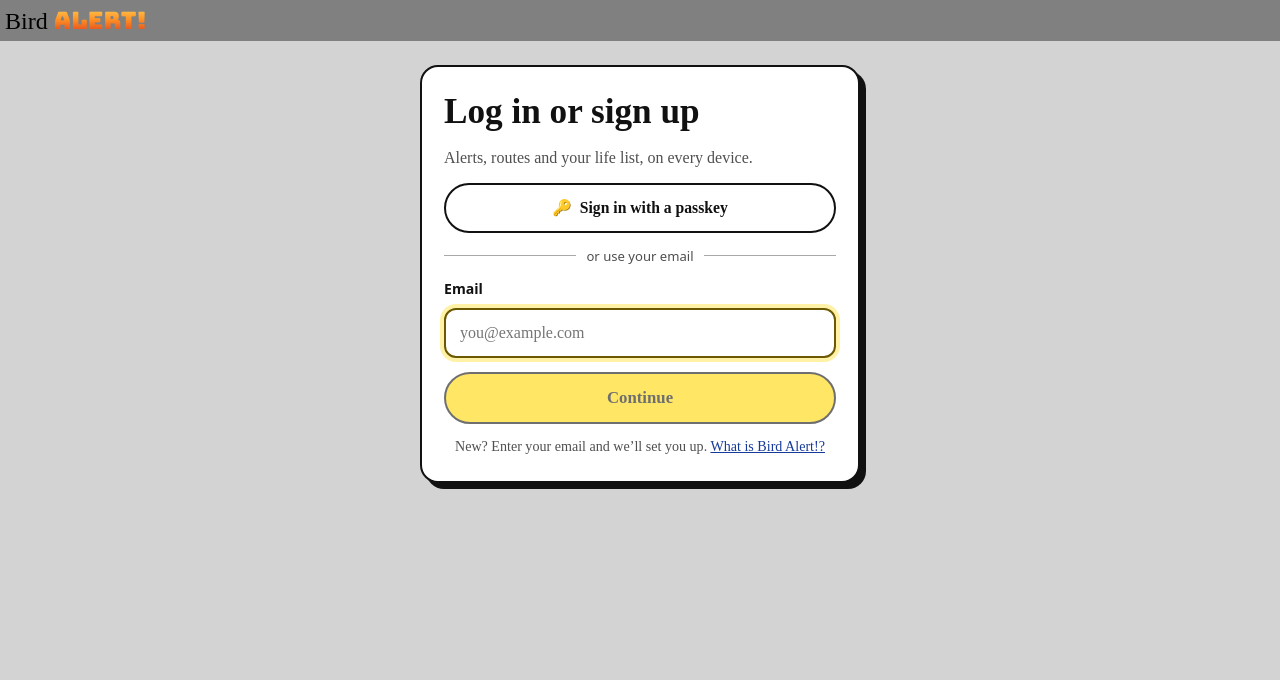
Life list › the watch list can hide birds already seen
Type "robin@example.com" into the field with class "email".
click(640, 333); type("robin@example.com")  # box [444,308,836,358]
Then press Enter
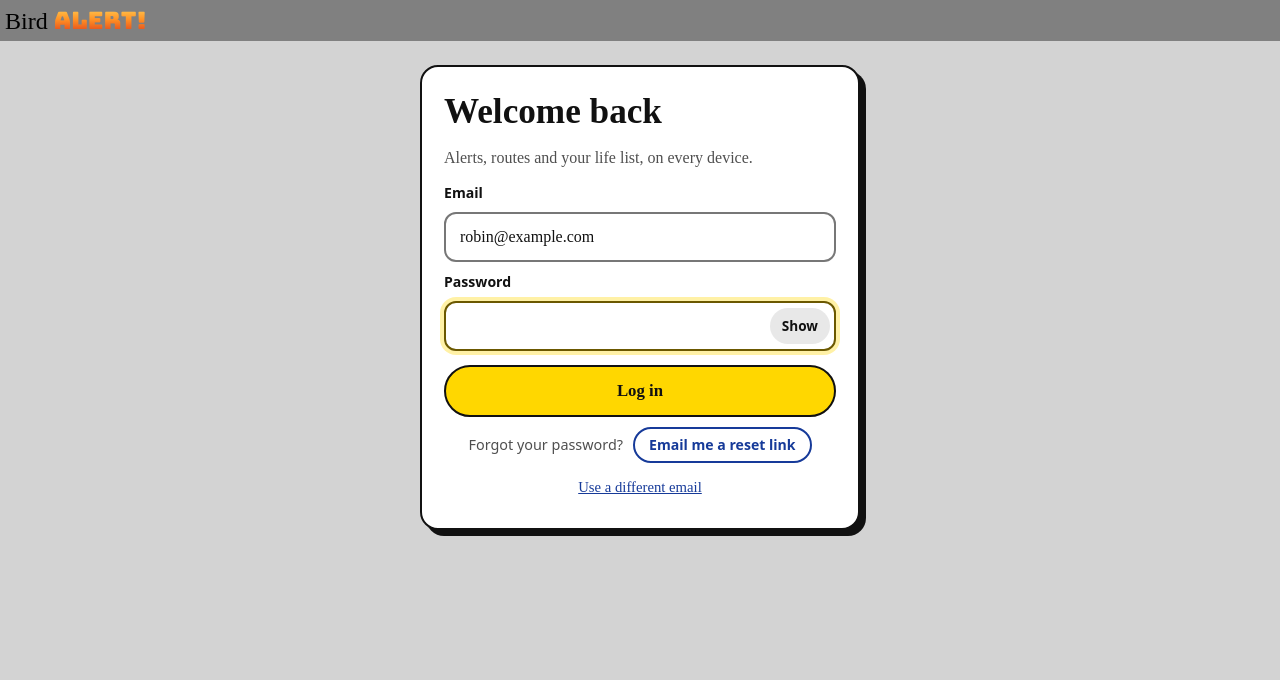
Result: the password field labelled "Password" is shown
Type "1234" into the password field labelled "Password".
click(640, 326); type("1234")  # box [444,301,836,351]
Then press Enter
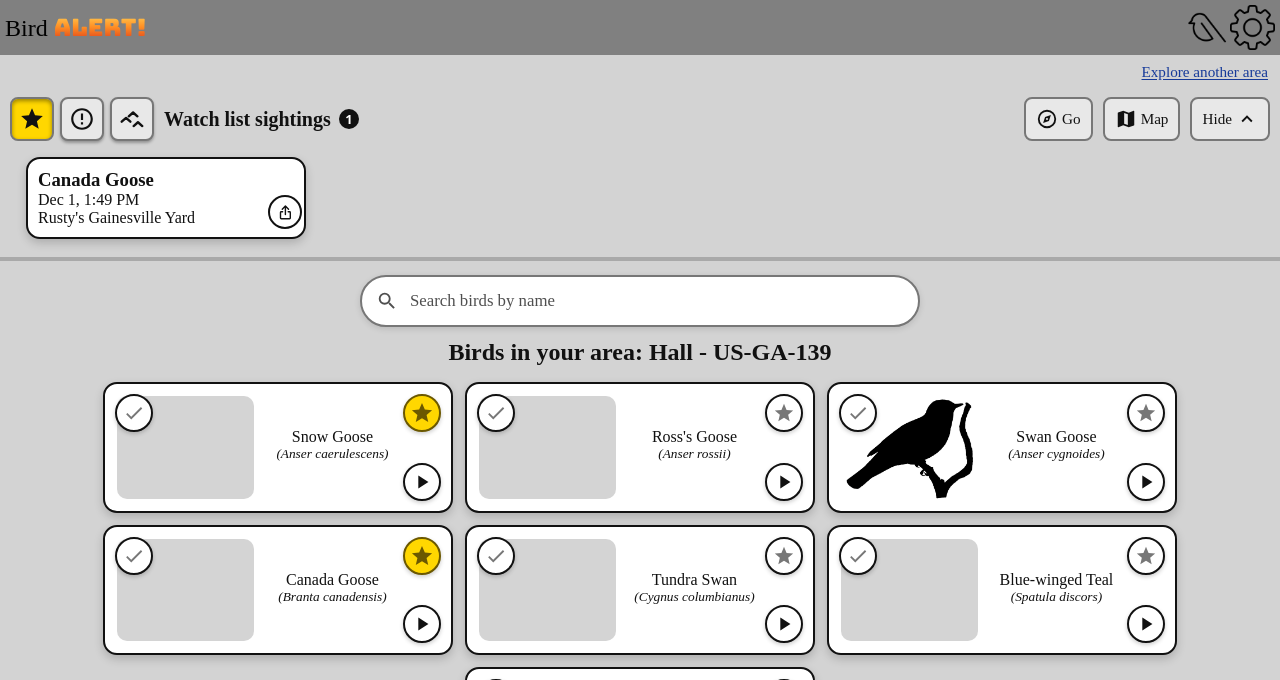
Result: the element showing "Snow Goose (Anser caerulescens)" is shown at [103,382,453,513]
Click the checkbox with id "seen-snogoo".
click(134, 413)  # box [115,394,153,432]
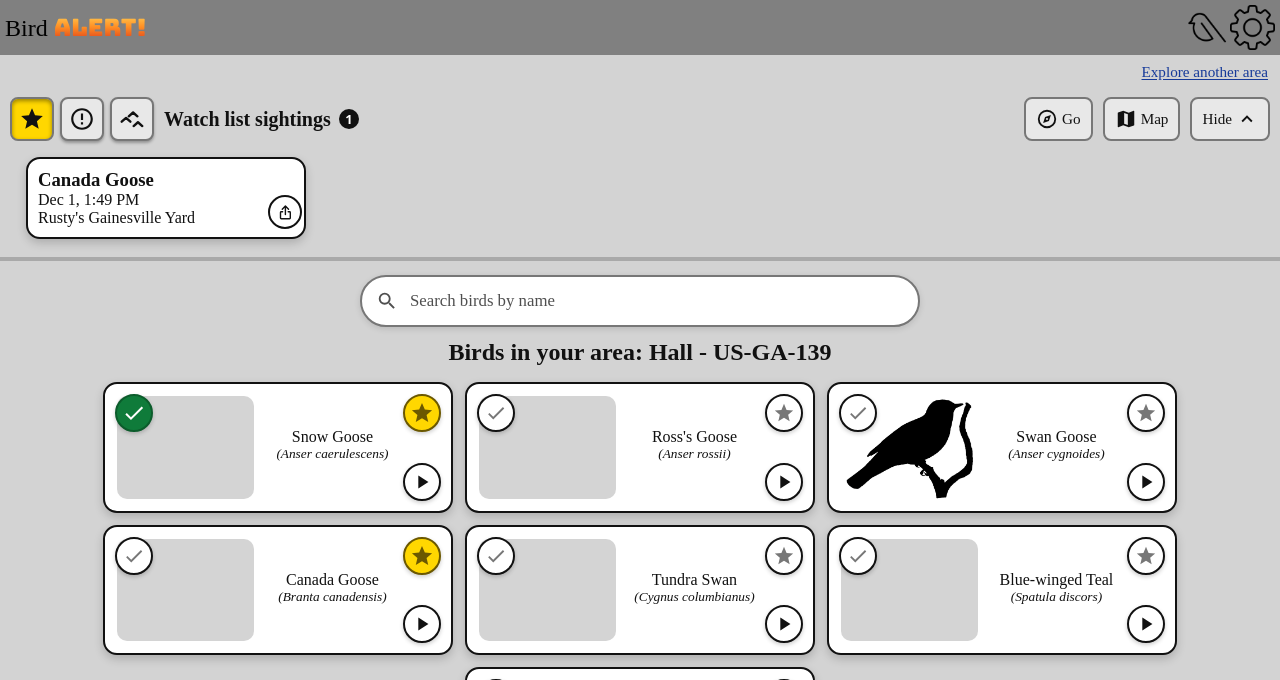
Open "http://localhost:3000/saved"
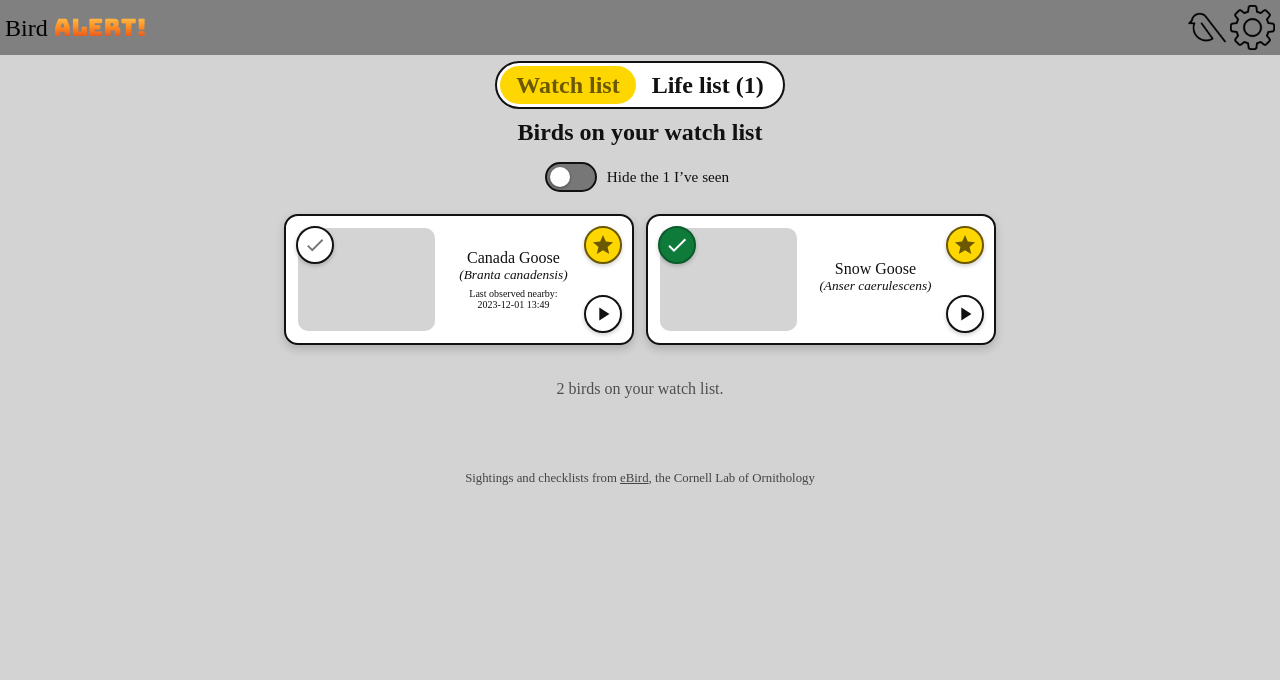
Click the checkbox labelled "Hide the 1 I’ve seen".
click(571, 177)  # box [545,162,597,192]
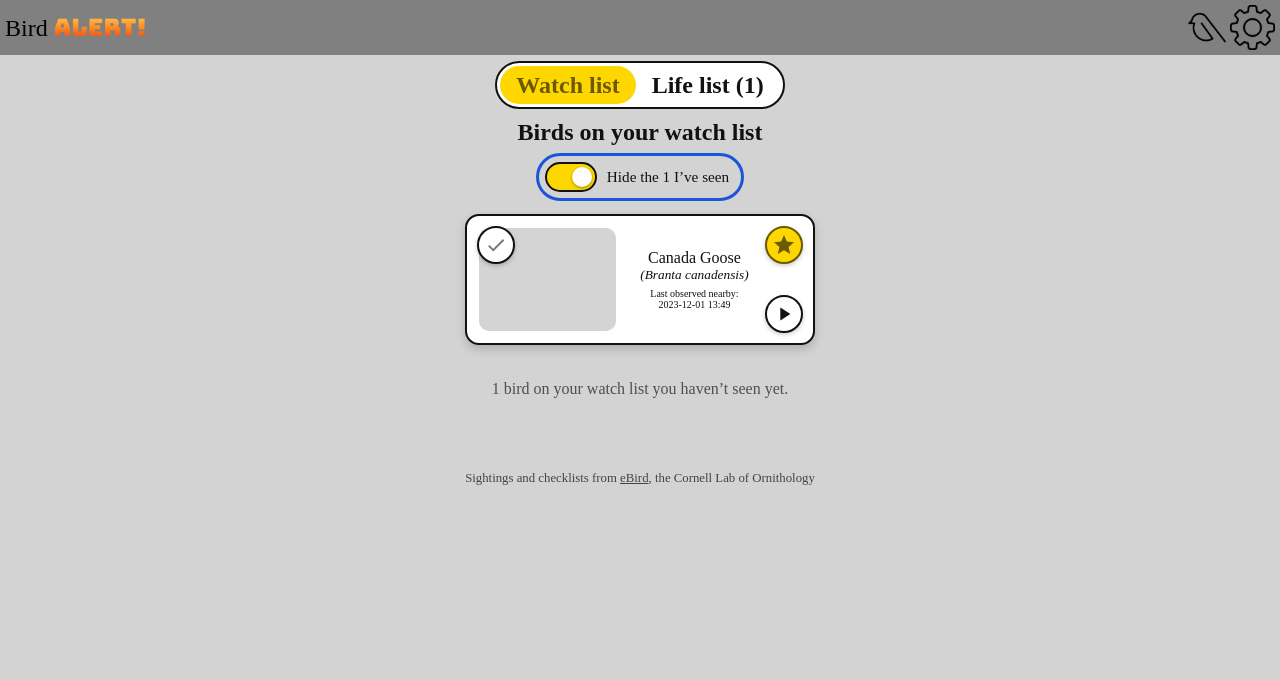
Result: the checkbox with id "seen-snogoo" is gone
Result: the text with class "list-end" shows "you haven’t seen yet" at [492,380,789,397]
